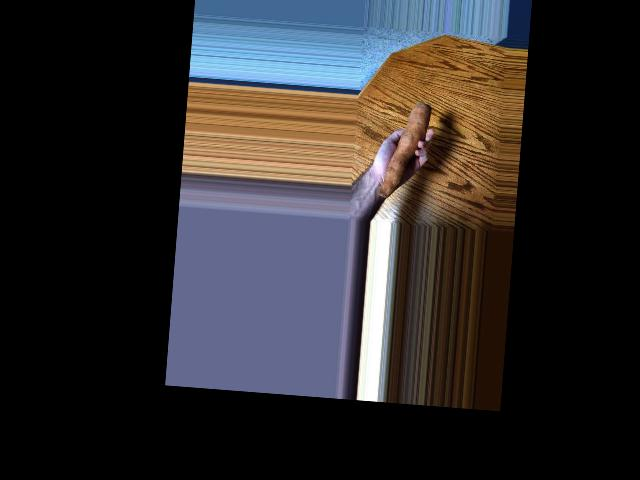sweet_potato: (375, 97, 433, 202)
